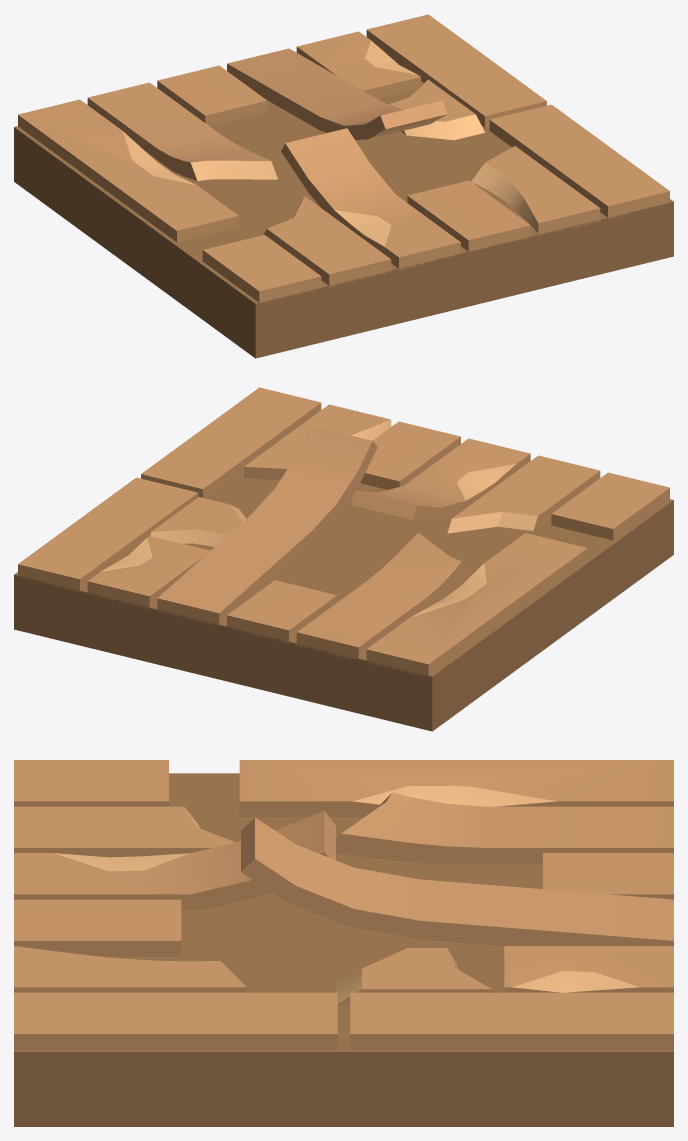
The model's file is quaternius-sushi-restaurant-floor-wood-broken.glb.
The picture shows the model from 3 angles, top to bottom: view 1: azimuth 30°, elevation 25°; view 2: azimuth 150°, elevation 25°; view 3: azimuth 270°, elevation 25°; orthographic projection. The views are drawn at different scales.
Visible parts, largest first — view 1: Floor_Wood_Broken; view 2: Floor_Wood_Broken; view 3: Floor_Wood_Broken.
Boxes of the visible parts, x1,y1,x2,y2 form: Floor_Wood_Broken: [14, 14, 673, 358]; Floor_Wood_Broken: [14, 387, 673, 731]; Floor_Wood_Broken: [14, 760, 673, 1126].
Size of the model in its own units: 4 by 1.15 by 4.
Materials: 1 (1 with a texture image).
